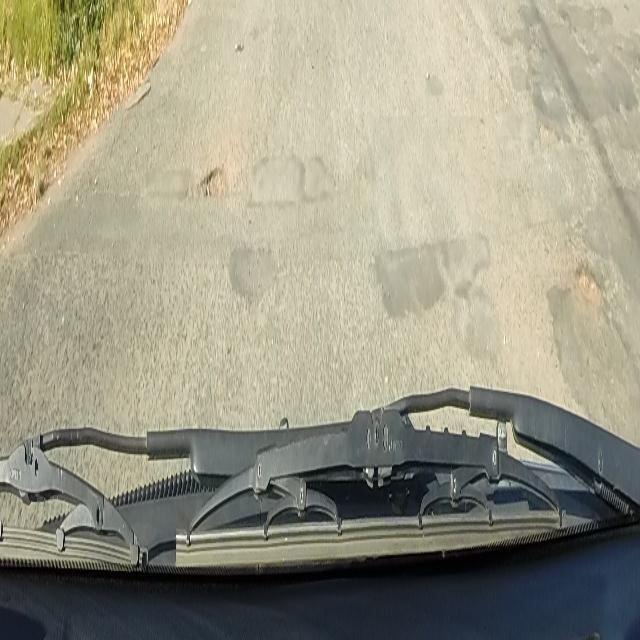pothole: (572, 263, 602, 305), (201, 165, 227, 201)
